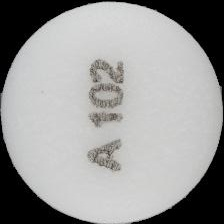0904-6573: (0, 0, 224, 224)
